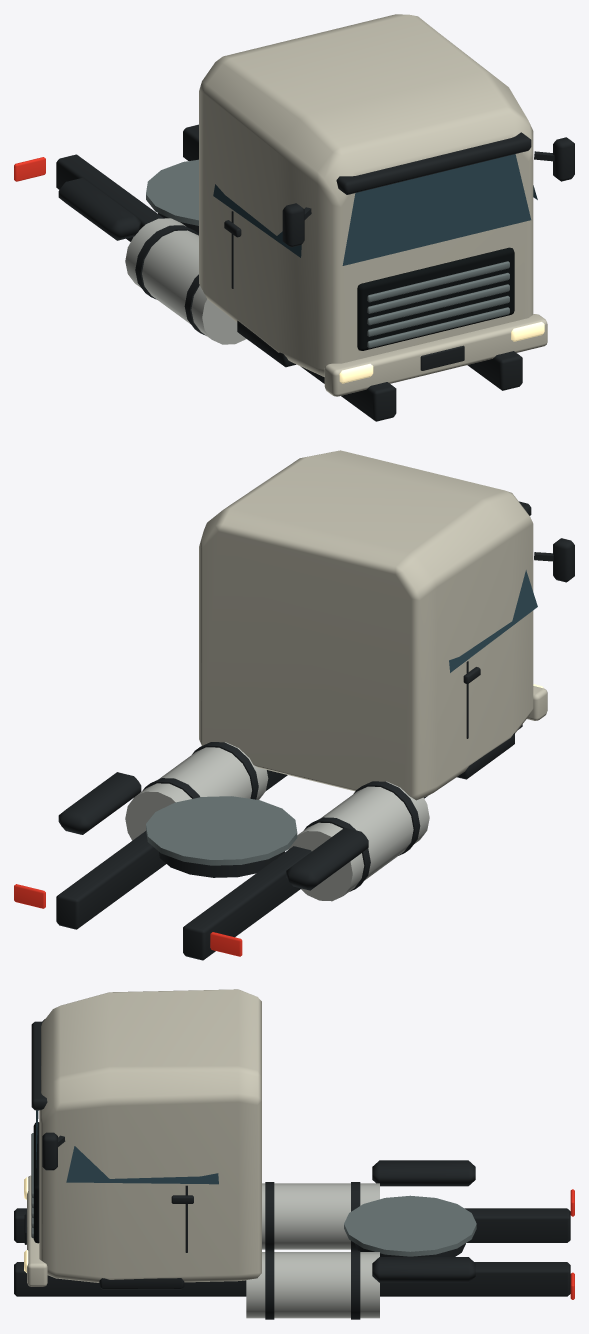
Rendered from tractor.glb.
3 views of the same model, one above another, from view 1: azimuth 30°, elevation 25°; view 2: azimuth 150°, elevation 25°; view 3: azimuth 270°, elevation 25° (orthographic). The views are drawn at different scales.
Parts seen in each view (by area): view 1: tractor_TruckPaint, tractor_Polymer, tractor_TintedGlass, tractor_Steel, tractor_Aluminium, tractor_Grille, tractor_Headlamps, tractor_TailLamps; view 2: tractor_TruckPaint, tractor_Polymer, tractor_Aluminium, tractor_Steel, tractor_TailLamps, tractor_TintedGlass; view 3: tractor_TruckPaint, tractor_Polymer, tractor_Aluminium, tractor_Steel, tractor_TintedGlass, tractor_Grille.
Boxes of the visible parts, <box> form: tractor_TruckPaint: <box>199,14,547,396</box>; tractor_Polymer: <box>56,124,574,421</box>; tractor_TintedGlass: <box>213,154,537,265</box>; tractor_Steel: <box>146,159,509,348</box>; tractor_Aluminium: <box>125,218,246,344</box>; tractor_Grille: <box>357,247,514,350</box>; tractor_Headlamps: <box>339,321,544,383</box>; tractor_TailLamps: <box>14,157,45,181</box>; tractor_TruckPaint: <box>199,450,547,800</box>; tractor_Polymer: <box>56,501,574,960</box>; tractor_Aluminium: <box>125,742,429,901</box>; tractor_Steel: <box>146,796,297,865</box>; tractor_TailLamps: <box>14,884,242,956</box>; tractor_TintedGlass: <box>449,570,537,672</box>; tractor_TruckPaint: <box>27,989,261,1286</box>; tractor_Polymer: <box>14,1019,570,1319</box>; tractor_Aluminium: <box>246,1183,379,1318</box>; tractor_Steel: <box>31,1133,476,1256</box>; tractor_TintedGlass: <box>36,1110,218,1184</box>; tractor_Grille: <box>33,1122,39,1243</box>.
Size of the model in its own units: 2.96 by 2.87 by 5.75.
